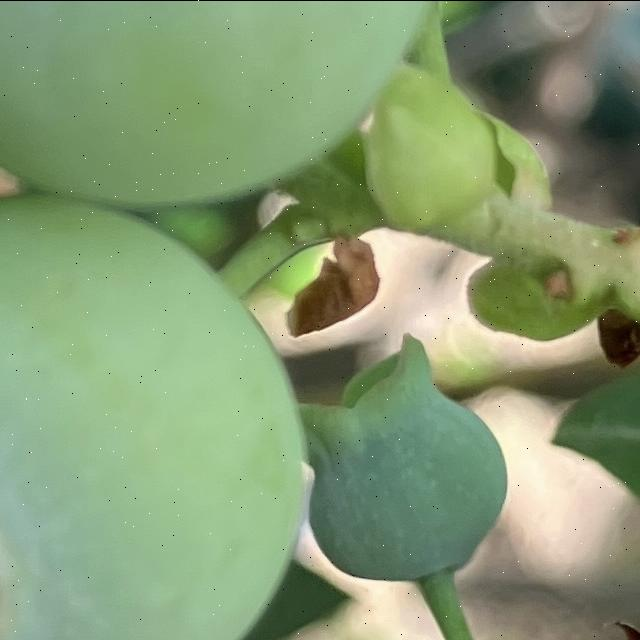Blueberries: (0, 196, 309, 640), (0, 0, 453, 214)
